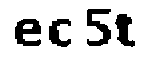5: (84, 4, 114, 50)
c: (46, 17, 76, 50)
e: (13, 16, 43, 52)
t: (113, 10, 137, 48)
